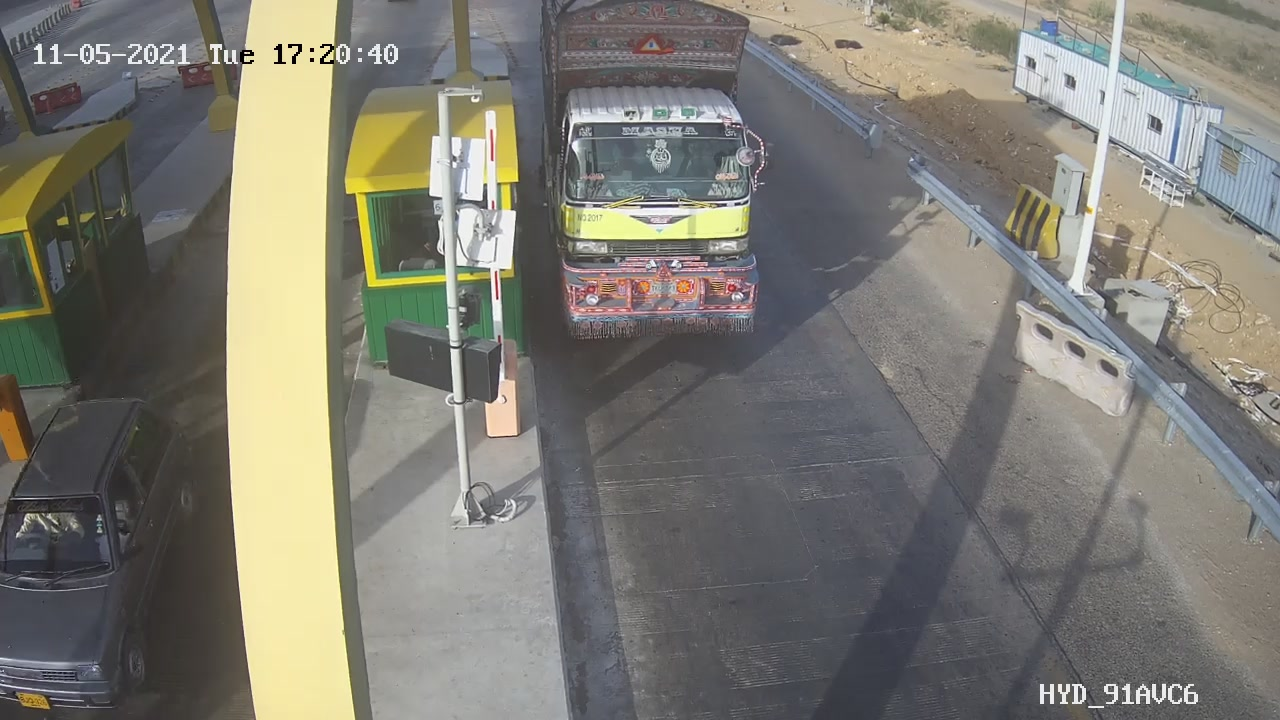F6: (521, 4, 791, 356)
